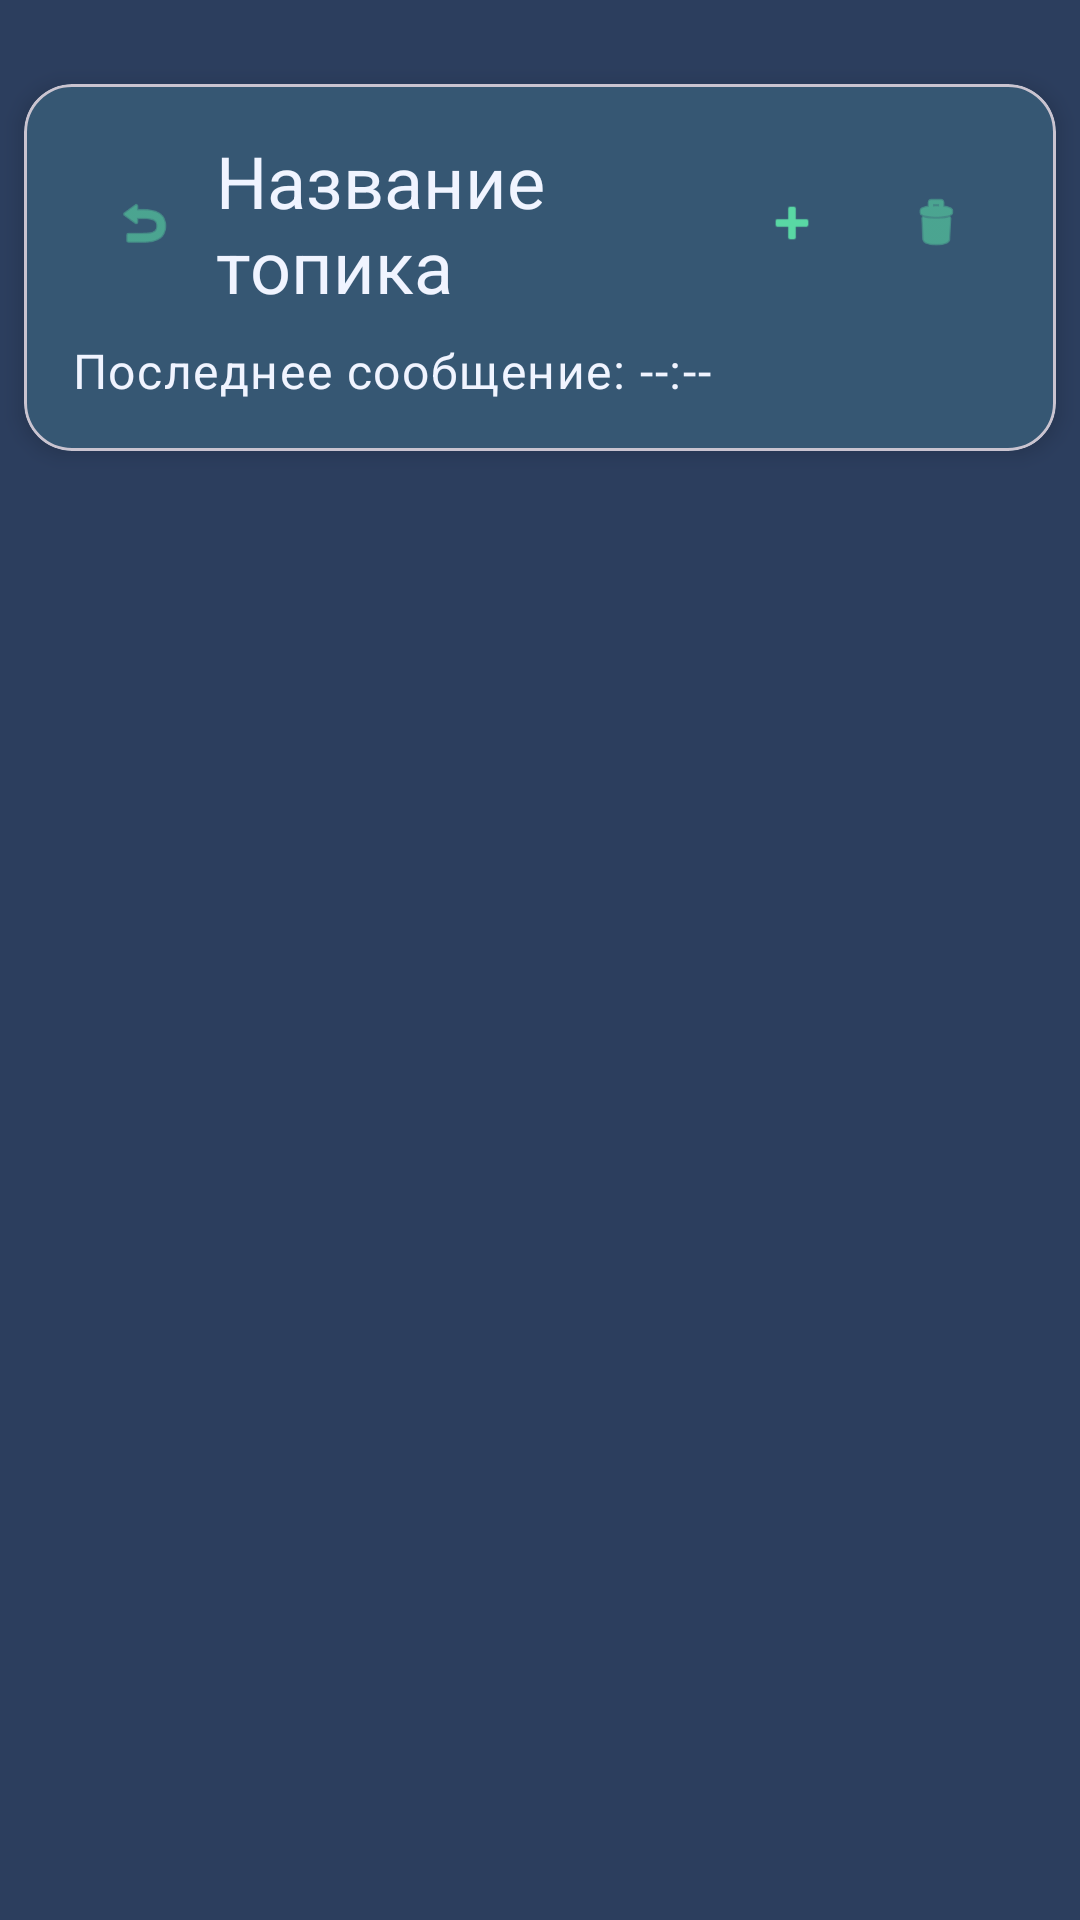

Where icons sit on this 1080x1920 app screen, as (x1, y1, x2, y2):
revert: (123, 204, 166, 243)
Очистить сервер: (920, 199, 953, 245)
